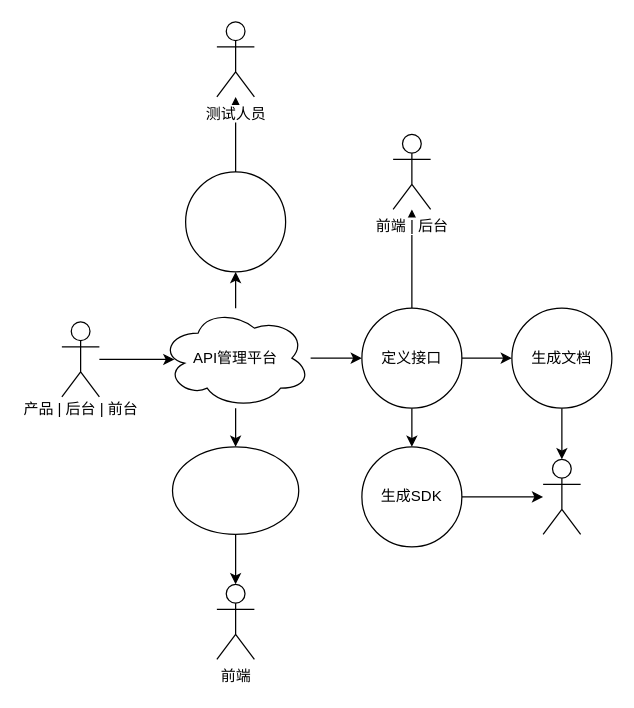
This 634x708 diagram has some shape labels left out. Here are the shapes that lost their labels. From the top down, the box of each, then its label:
(184, 171, 286, 272): 测试接口
(171, 446, 299, 534): Mock数据
(542, 458, 581, 534): 用户
